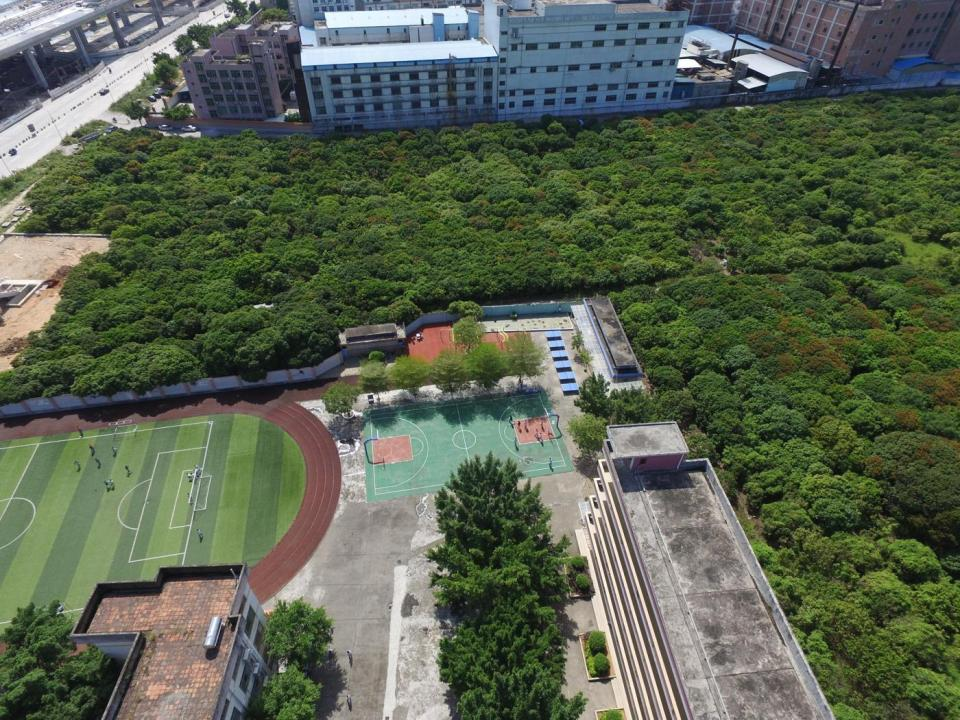car: (182, 125, 198, 132), (106, 126, 118, 135), (158, 125, 174, 131), (155, 87, 165, 95), (100, 88, 108, 96), (152, 92, 161, 98), (149, 96, 157, 102)
